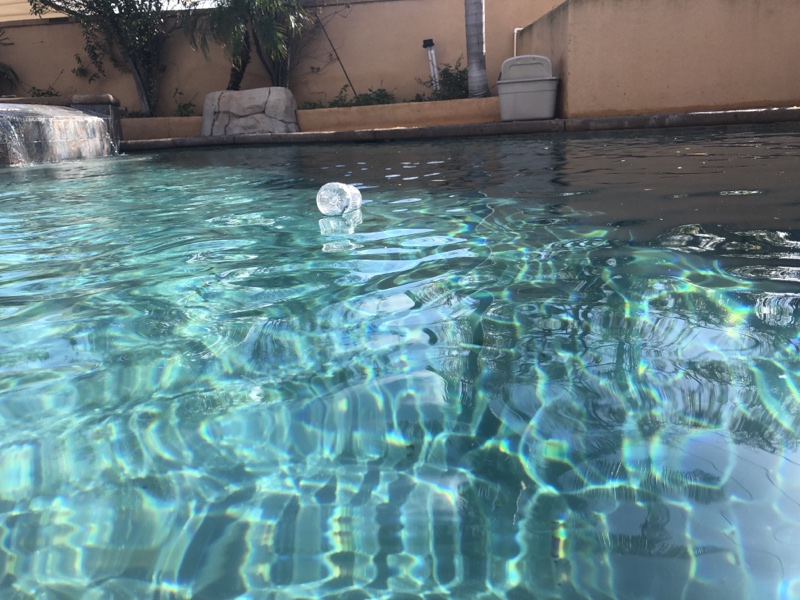Plastic Bottle: (311, 177, 363, 220)
